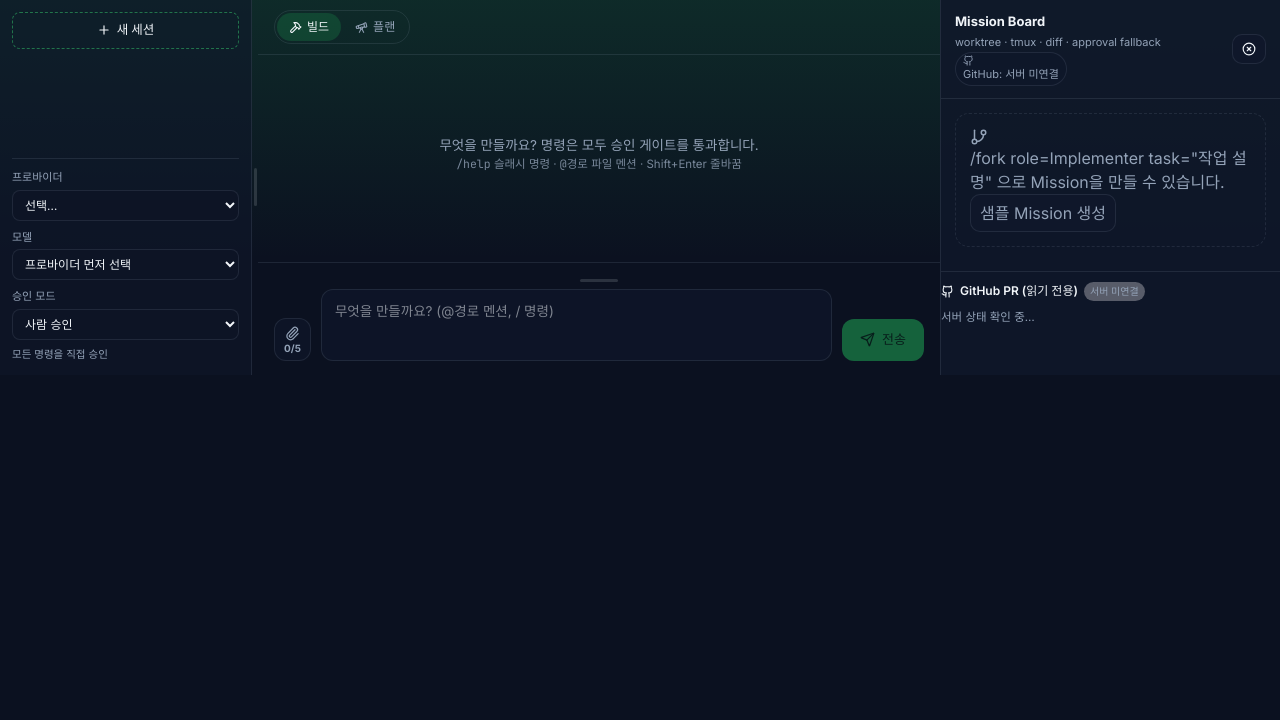
Test: CodingWorkbench 자동승인 (jsdom) — 옵션 명시 활성화 + 첫 켜기 경고 › manual에서 자동 모드로 바꾸면 위험 경고 다이얼로그가 뜨고, 확인 전엔 모드가 바뀌지 않는다
This screenshot has width=1280, height=720.
Select "안전 검증 자동" in the dropdown showing "사람 승인": [126, 324] box [12,309,239,340]
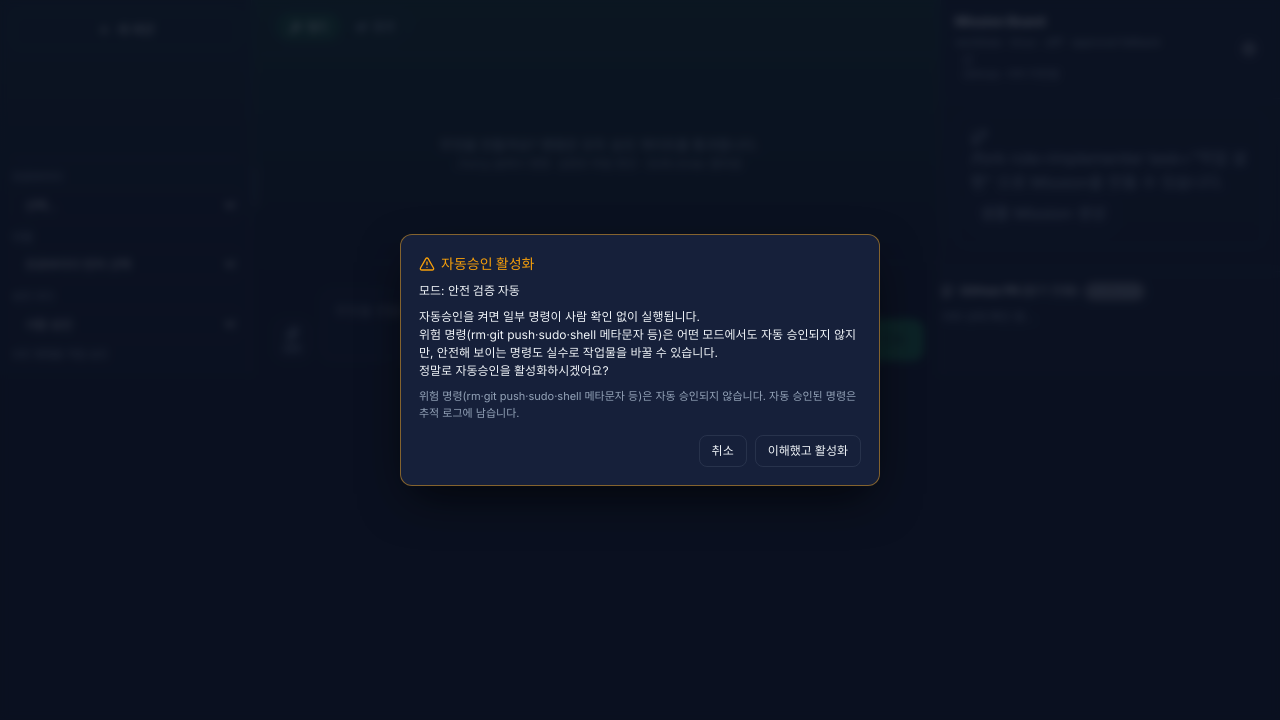
Check: the dialog "자동승인 활성화" is shown
Check: the dialog "자동승인 활성화" shows "위험", box [419,309,856,378]
Check: the dialog "자동승인 활성화" shows "정말로 자동승인을 활성화하시겠어요?", box [419,309,856,378]
